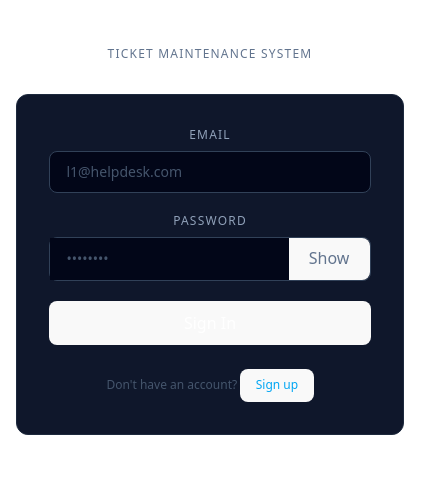
Test: LoginPage › should show error on failed login
Step 1. Type "bad@test.com" into the field with placeholder "l1@helpdesk.com" → x=210, y=172, box [49,151,371,193]
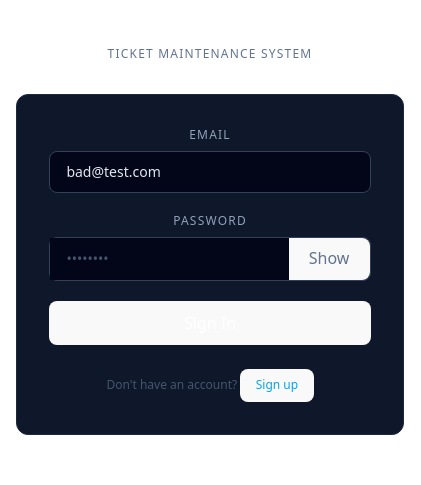
Step 2. Type "wrong" into the password field with placeholder "••••••••" → x=170, y=259, box [50,238,289,280]
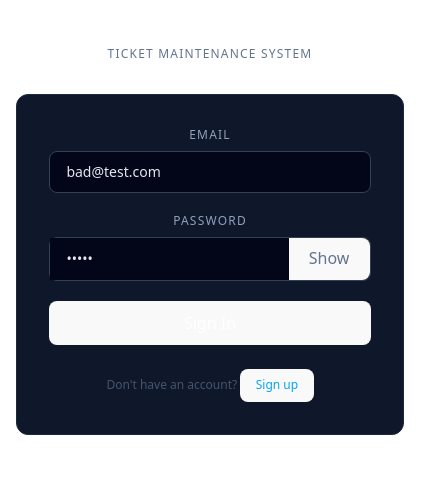
Step 3. Click the button "Sign In" → x=210, y=323, box [49,301,371,345]
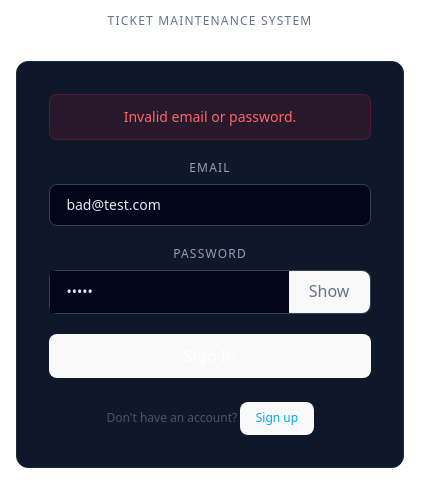
Expected: the text "Invalid email or password." is shown, [49,94,371,140]
